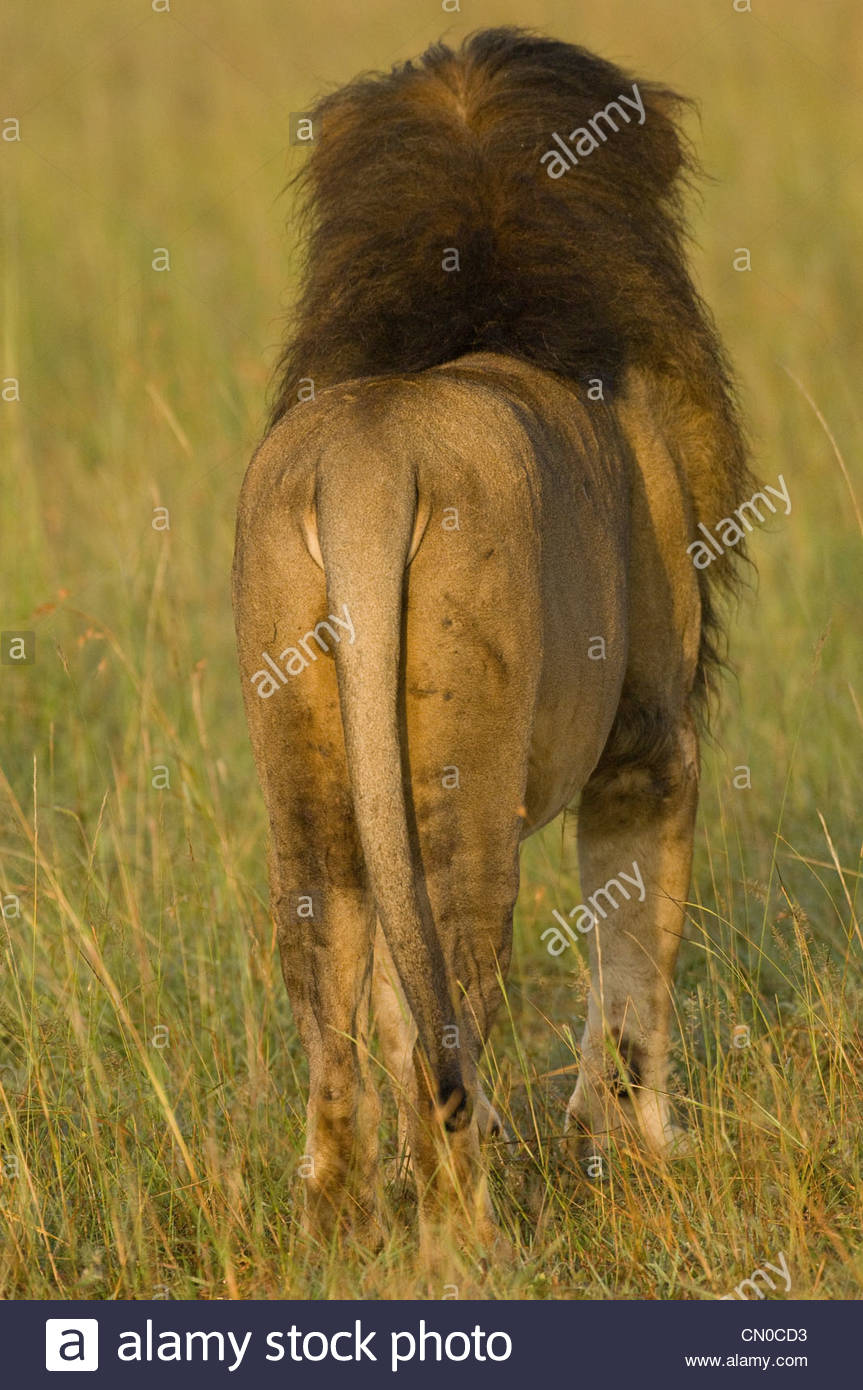lion: (224, 14, 759, 1254)
